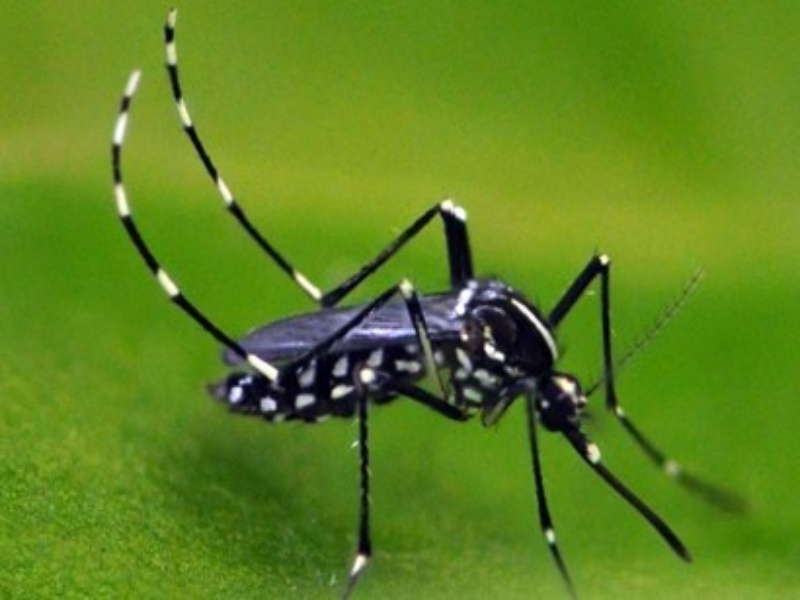dengue_mosquito: (175, 197, 589, 457)
